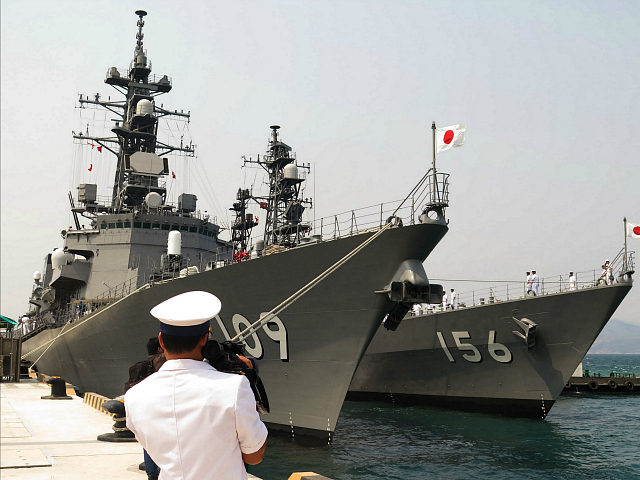Japanese Flag: (430, 120, 471, 152), (623, 219, 640, 241)
